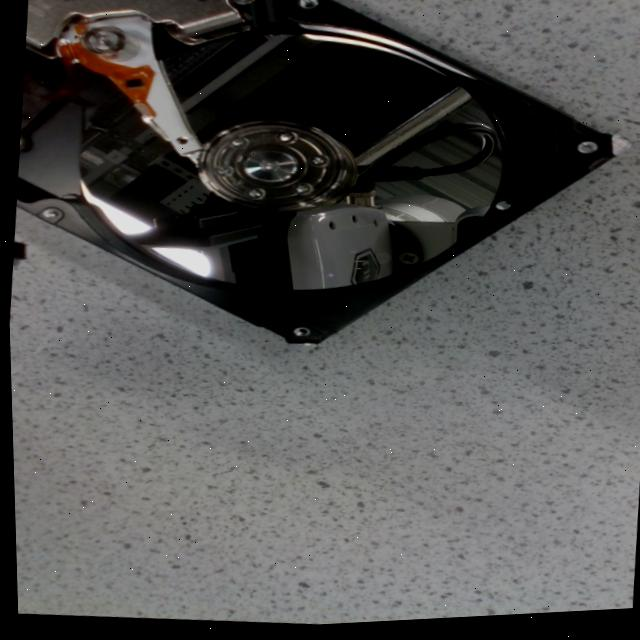actuator arm: (53, 16, 198, 165)
actuator axis: (83, 28, 122, 55)
case: (17, 0, 628, 350)
magnet: (25, 0, 241, 47)
platter: (71, 33, 504, 295)
platter holder: (197, 123, 354, 213)
screw: (242, 189, 263, 202), (306, 158, 328, 170), (273, 134, 296, 145), (226, 140, 247, 151), (290, 187, 312, 197), (212, 167, 230, 178)
